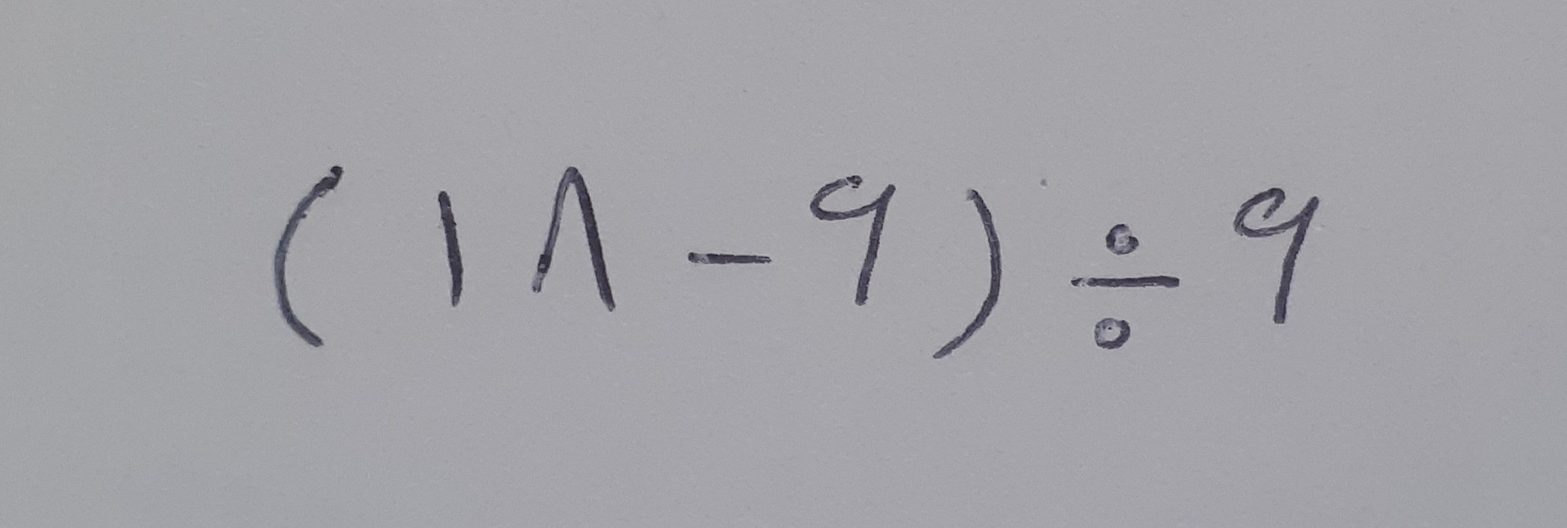character: (1071, 224, 1181, 349), (273, 165, 344, 349), (532, 167, 617, 313), (1233, 188, 1321, 324), (932, 190, 1002, 359), (810, 176, 895, 305), (437, 189, 465, 308), (686, 252, 772, 265)
